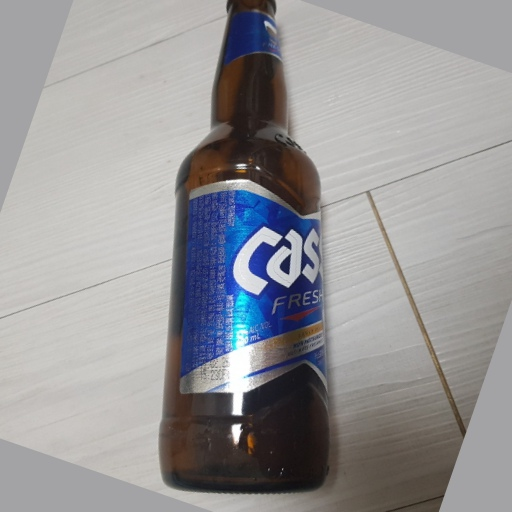Glass_1: (163, 2, 332, 494)
